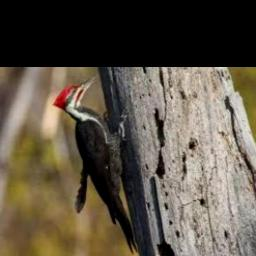Woodpecker: (53, 74, 139, 254)
